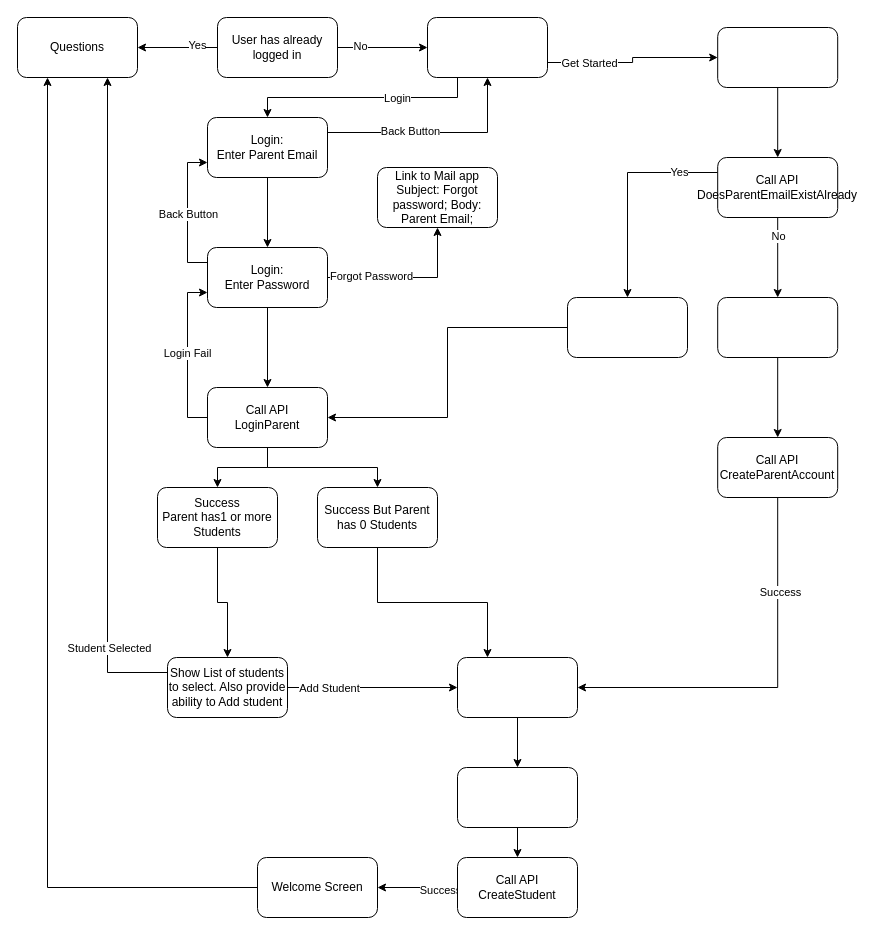
Image size: 875x935. Some labels were removed from this diagram. The shapes that lost their labels are listed below. From the top down, each one's box as (x1, y1, x2, y2) in pixels, then its label:
(426, 16, 548, 78): Logo Screen
(717, 26, 838, 88): Create Account: Enter Parent Email
(566, 296, 688, 358): Account Already Exists: Enter Password
(717, 296, 838, 358): Create Account: Enter Password
(456, 656, 578, 718): Add Student: Enter NickName
(456, 766, 578, 828): Add Student: Enter Grade
